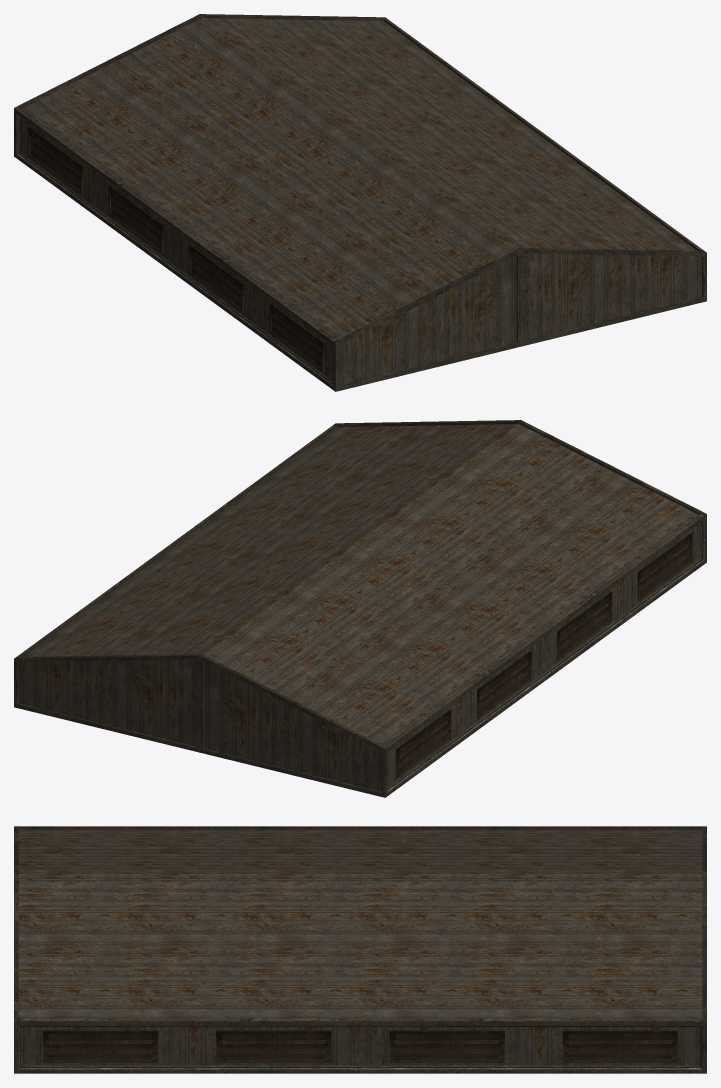
The model's file is roof_mh_4_b_3.obj.
3 views of the same model, one above another, from view 1: azimuth 30°, elevation 25°; view 2: azimuth 150°, elevation 25°; view 3: azimuth 270°, elevation 25° (orthographic). The views are drawn at different scales.
Parts seen in each view (by area): view 1: roof_mh_4_b_3; view 2: roof_mh_4_b_3; view 3: roof_mh_4_b_3.
Boxes of the visible parts, box(x1,y1,x2,y2) form: roof_mh_4_b_3: box(14, 14, 706, 391); roof_mh_4_b_3: box(14, 420, 706, 797); roof_mh_4_b_3: box(14, 826, 706, 1073).
Bounding box in the file's own units: 8 × 2 × 12.
